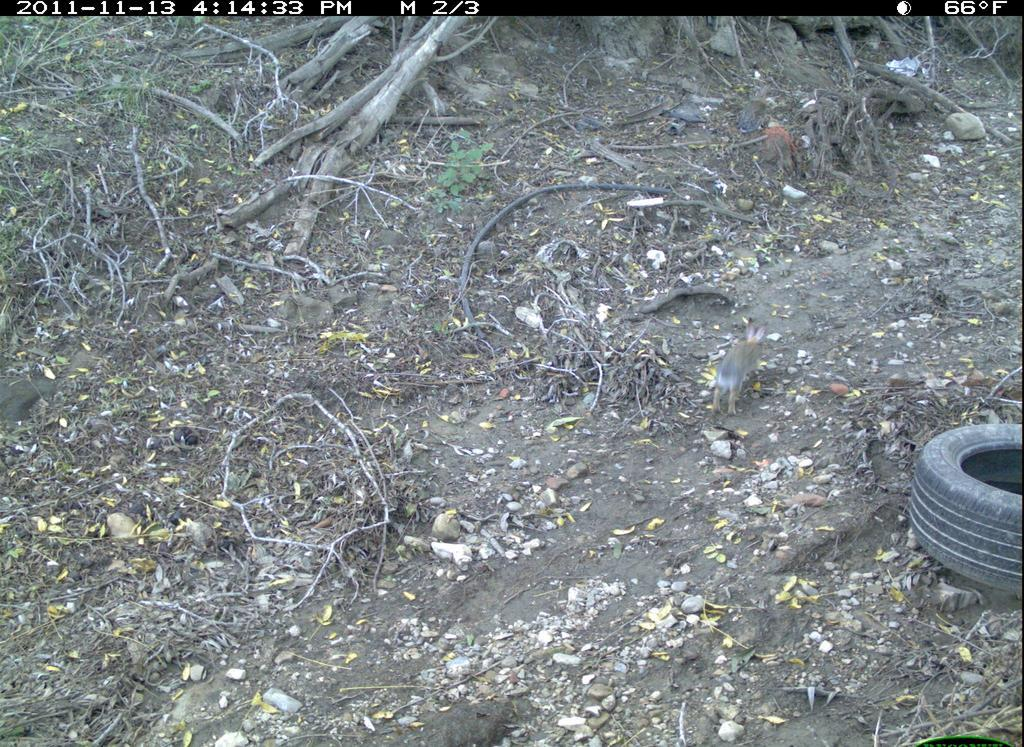rabbit: (707, 313, 776, 422)
